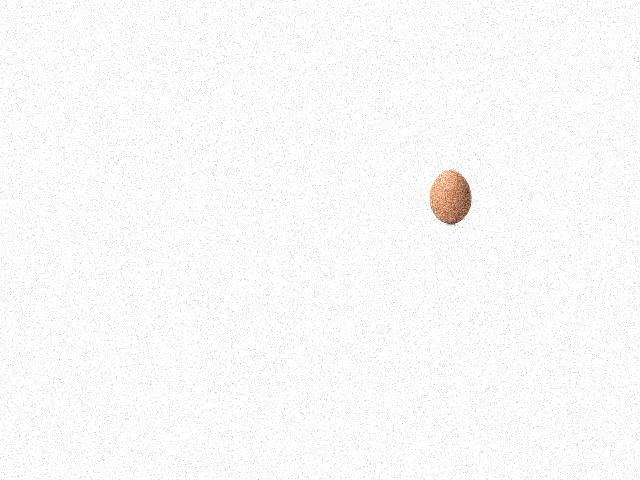egg: (430, 170, 471, 224)
